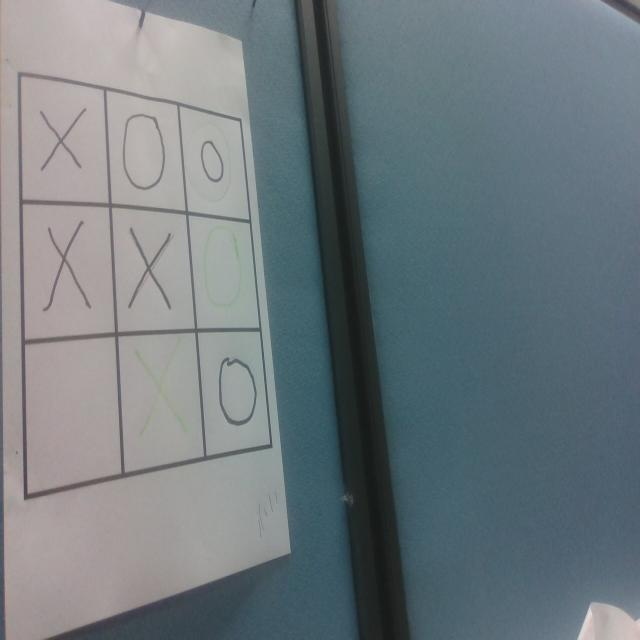null: (24, 336, 122, 495)
o: (198, 216, 259, 330), (123, 110, 167, 190), (220, 356, 259, 426), (199, 139, 226, 185)
table: (14, 71, 274, 503)
x: (126, 346, 188, 437), (46, 221, 90, 312), (129, 229, 171, 311), (41, 107, 85, 176)
